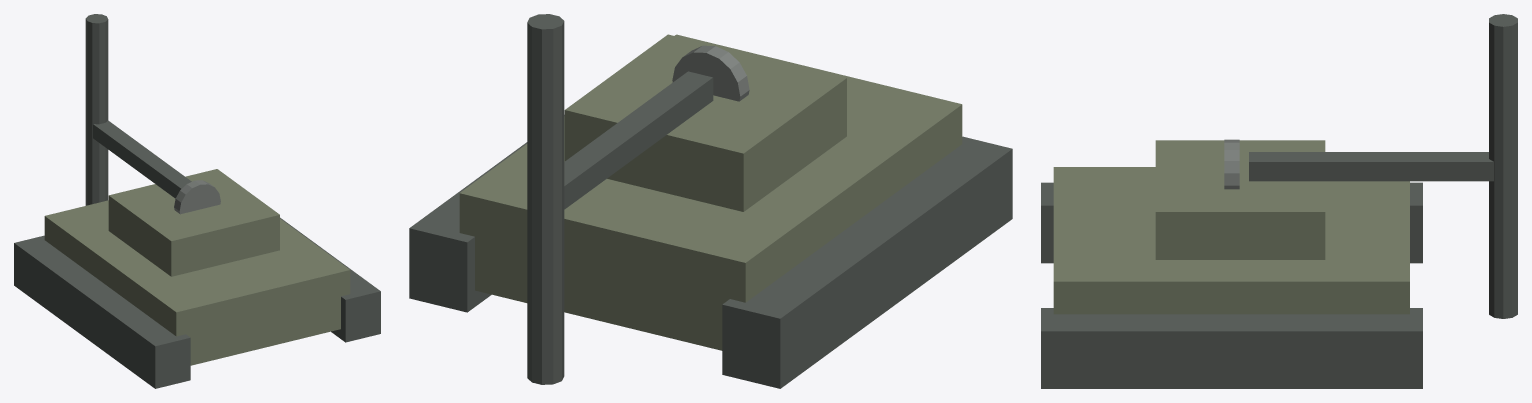
Rendered from tank.glb.
3 views of the same model, side by side, from view 1: azimuth 30°, elevation 25°; view 2: azimuth 150°, elevation 25°; view 3: azimuth 270°, elevation 25° (orthographic). The views are drawn at different scales.
Visible parts, largest first — view 1: p0, p3, p1, p6, p5, p2, p4; view 2: p0, p1, p3, p6, p5, p2, p4; view 3: p0, p2, p3, p6, p5, p1, p4.
Part boxes in pixels (box(x1,y1,x2,y2)): p0: box(44, 200, 350, 365); p3: box(108, 169, 279, 276); p1: box(14, 235, 190, 388); p6: box(85, 14, 108, 205); p5: box(93, 120, 191, 198); p2: box(280, 217, 380, 342); p4: box(174, 180, 220, 214); p0: box(459, 34, 962, 350); p1: box(722, 136, 1012, 388); p3: box(564, 34, 846, 211); p6: box(527, 14, 564, 384); p5: box(564, 71, 713, 209); p2: box(409, 115, 564, 312); p4: box(672, 45, 749, 101); p0: box(1053, 167, 1409, 314); p2: box(1041, 308, 1422, 388); p3: box(1155, 140, 1325, 259); p6: box(1489, 14, 1517, 318); p5: box(1249, 152, 1493, 181); p1: box(1041, 182, 1422, 263); p4: box(1224, 139, 1239, 189).
Size of the model in its own units: 4.15 by 3.83 by 5.62.
